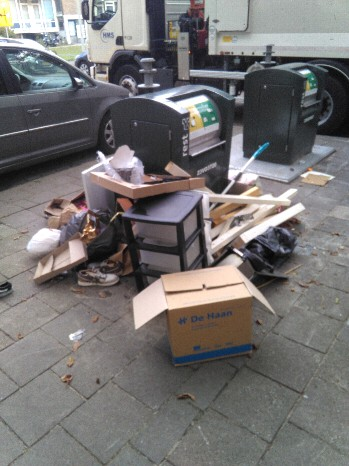Container: (125, 88, 228, 177), (258, 65, 316, 164)
Papier: (158, 278, 254, 367)
Rest: (42, 205, 133, 293), (211, 187, 288, 267), (135, 201, 204, 277), (81, 160, 165, 216), (300, 170, 333, 187)
Voertuig: (3, 48, 123, 151), (87, 2, 338, 51)
